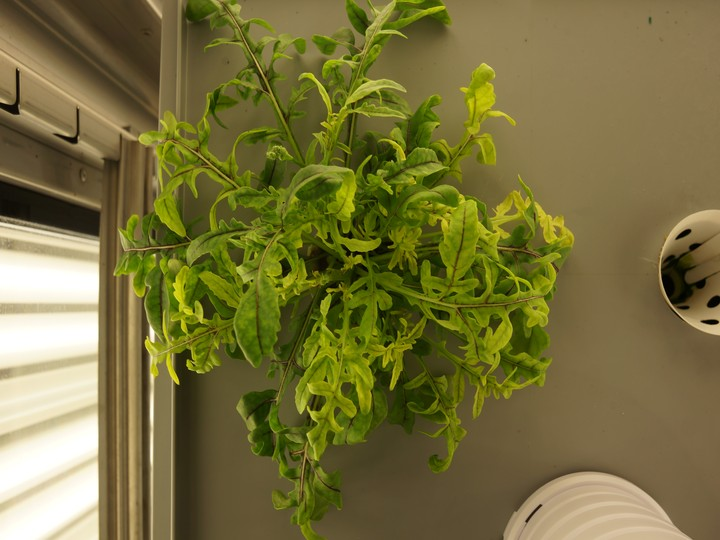roquette_sauvage_red_veined: (105, 2, 564, 531)
